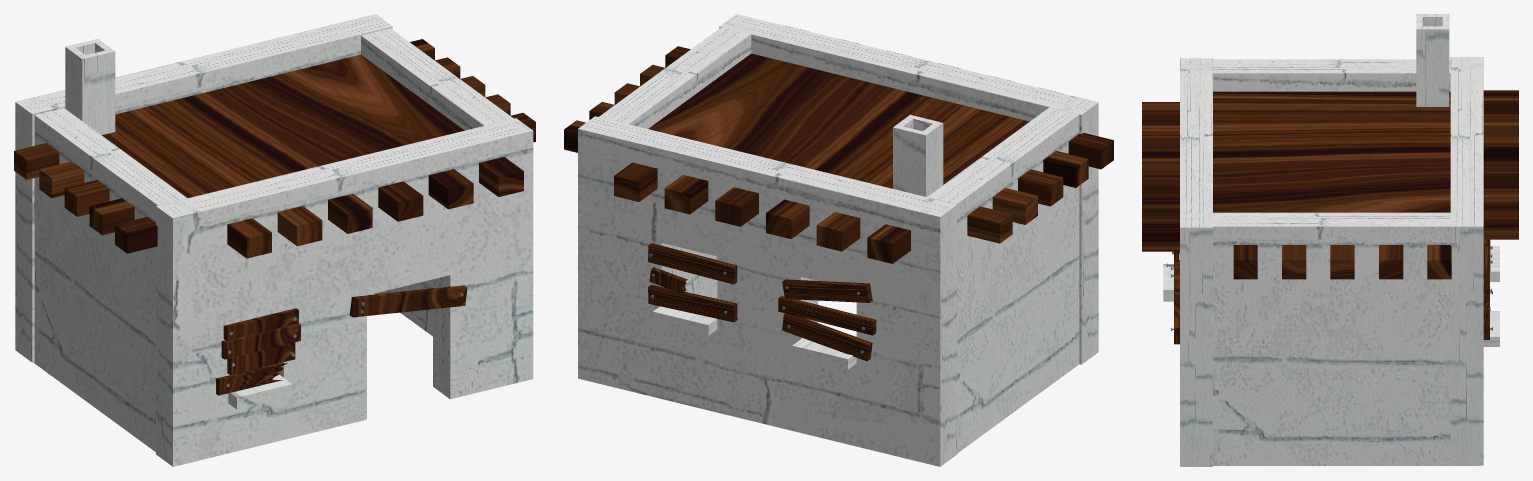
Rendered from House_S_1_Last.fbx.
The picture shows the model from 3 angles, left to right: view 1: azimuth 30°, elevation 25°; view 2: azimuth 150°, elevation 25°; view 3: azimuth 270°, elevation 25°; orthographic projection. The views are drawn at different scales.
Parts seen in each view (by area): view 1: pCube2, pCube22, pCube4, pCube1, pCube3, pCube7, pCube21, pCube18, pCube19, pCube17, pCube20; view 2: pCube1, pCube22, pCube4, pCube2, pCube3, pCube7, pCube10, pCube12, pCube14, pCube9, pCube11, pCube15; view 3: pCube3, pCube22, pCube1, pCube2, pCube4, pCube7, pCube21, pCube12.
Part boxes in pixels (x1,y1,x2,y2): pCube2: [156, 118, 533, 466]; pCube22: [14, 39, 535, 258]; pCube4: [34, 108, 202, 451]; pCube1: [15, 14, 392, 362]; pCube3: [361, 28, 529, 336]; pCube7: [65, 39, 115, 135]; pCube21: [349, 285, 467, 317]; pCube18: [221, 323, 300, 359]; pCube19: [223, 308, 298, 340]; pCube17: [227, 342, 295, 374]; pCube20: [216, 363, 287, 395]; pCube1: [578, 116, 957, 466]; pCube22: [564, 26, 1113, 263]; pCube4: [927, 95, 1094, 453]; pCube2: [719, 14, 1098, 364]; pCube3: [599, 15, 763, 298]; pCube7: [893, 115, 943, 196]; pCube10: [782, 313, 872, 361]; pCube12: [648, 243, 737, 284]; pCube14: [648, 284, 737, 322]; pCube9: [782, 279, 872, 302]; pCube11: [778, 295, 876, 335]; pCube15: [649, 267, 687, 293]; pCube3: [1182, 212, 1478, 465]; pCube22: [1142, 90, 1518, 279]; pCube1: [1450, 57, 1499, 465]; pCube2: [1163, 58, 1212, 466]; pCube4: [1182, 59, 1450, 91]; pCube7: [1416, 14, 1449, 106]; pCube21: [1174, 260, 1179, 344]; pCube12: [1483, 245, 1489, 300].
Bounding box in the file's own units: 14.19 × 10 × 11.42.
